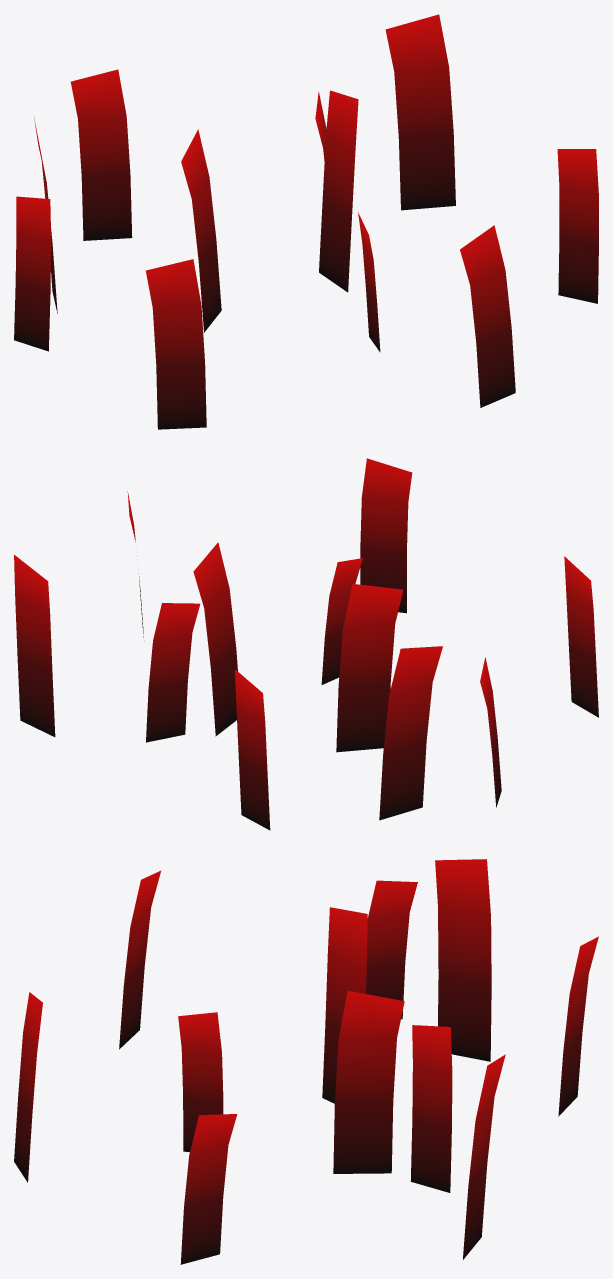
File: SM_Flower1_Group.fbx
The picture shows the model from 3 angles, top to bottom: view 1: azimuth 30°, elevation 25°; view 2: azimuth 150°, elevation 25°; view 3: azimuth 270°, elevation 25°; orthographic projection. The views are drawn at different scales.
Parts seen in each view (by area): view 1: Flower1 Group; view 2: Flower1 Group; view 3: Flower1 Group.
Boxes of the visible parts, x1,y1,x2,y2 form: Flower1 Group: (14,14,598,429); Flower1 Group: (14,458,598,830); Flower1 Group: (14,859,598,1264).
Size of the model in its own units: 0.634 by 0.2313 by 0.6354.
